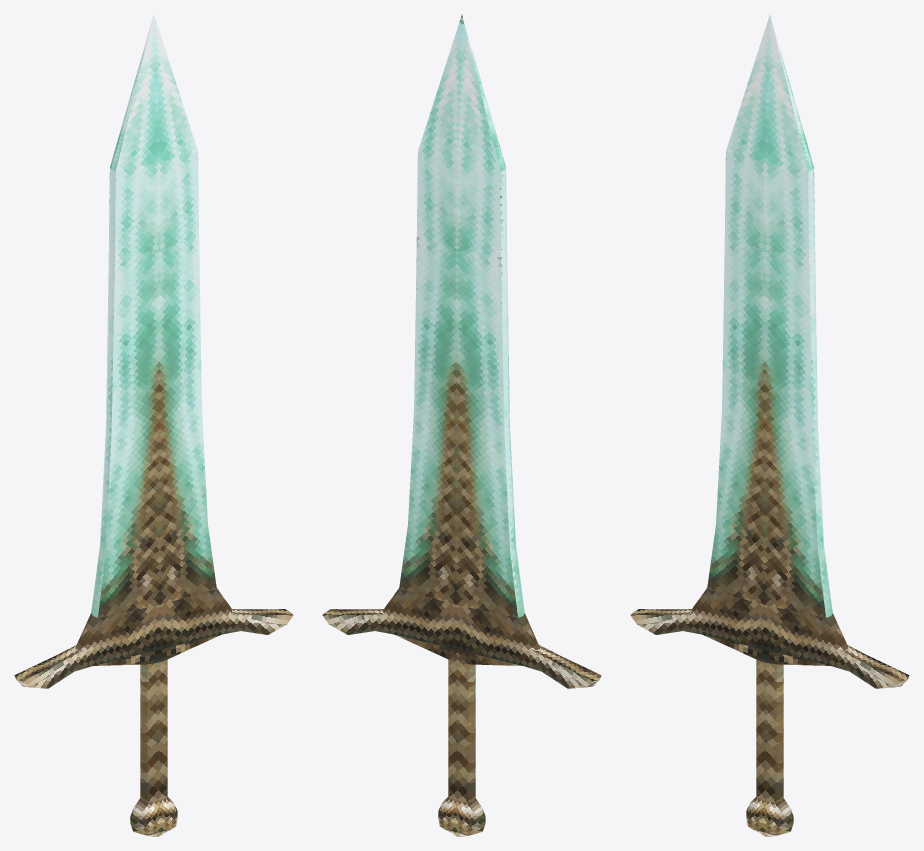
File: moonlight_blade.glb
The picture shows the model from 3 angles, left to right: view 1: azimuth 30°, elevation 25°; view 2: azimuth 150°, elevation 25°; view 3: azimuth 330°, elevation 25°; orthographic projection.
Visible parts, largest first — view 1: MoonLightBlade; view 2: MoonLightBlade; view 3: MoonLightBlade.
Boxes of the visible parts, x1,y1,x2,y2 form: MoonLightBlade: [14, 15, 293, 836]; MoonLightBlade: [322, 14, 601, 836]; MoonLightBlade: [630, 15, 909, 836].
Size of the model in its own units: 0.5689 by 1.62 by 0.0537.
Materials: 1 (1 with a texture image).
